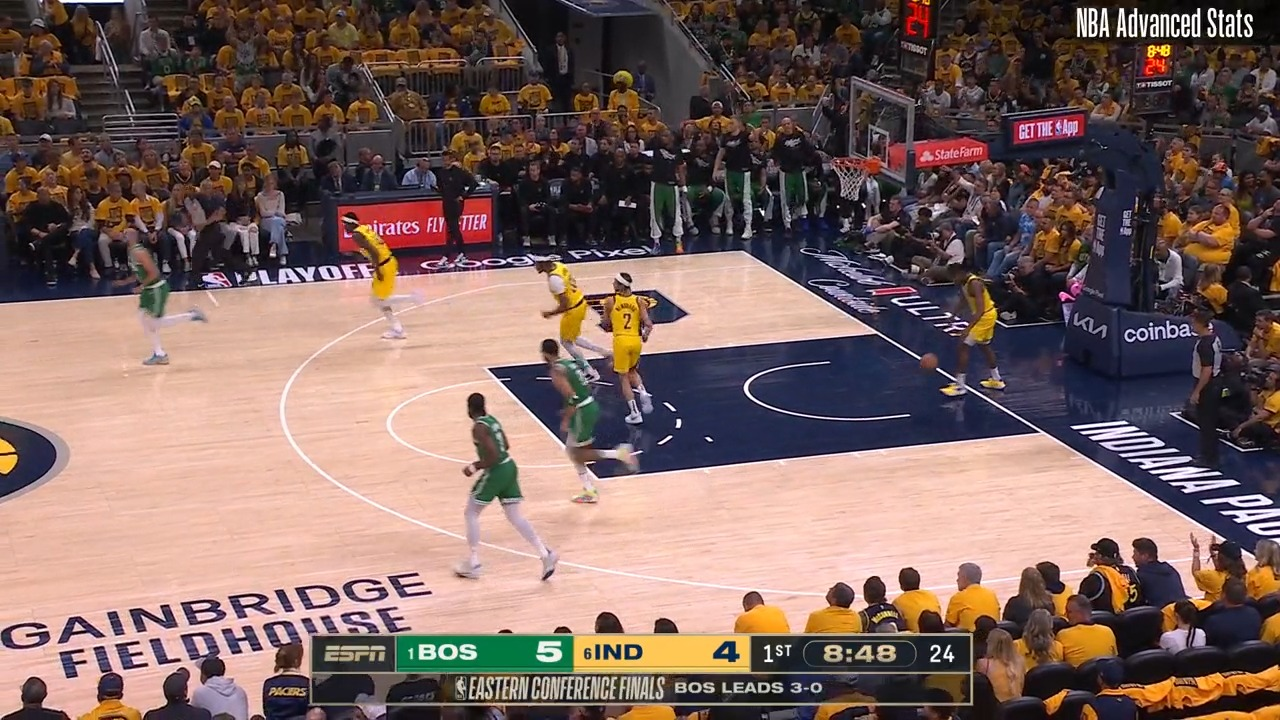basketball: (919, 351, 941, 374)
